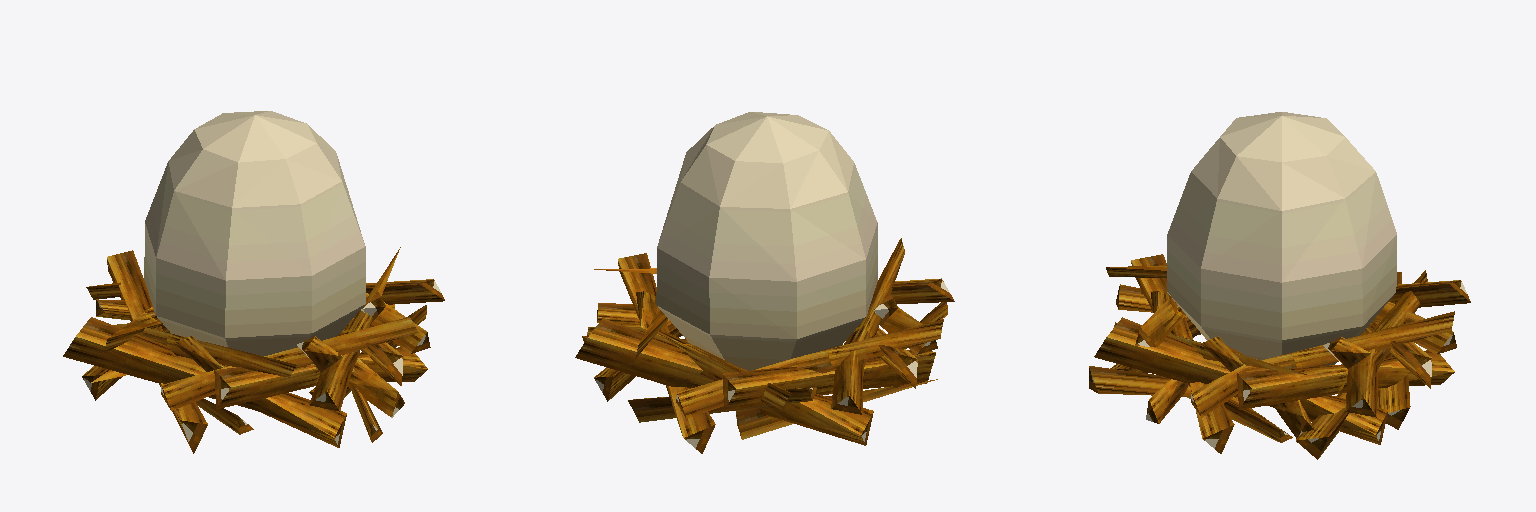
The picture shows the model from 3 angles: view 1: azimuth 30°, elevation 25°; view 2: azimuth 150°, elevation 25°; view 3: azimuth 270°, elevation 25°; orthographic projection.
Visible parts, largest first — view 1: egg_egg_geom-029B91F1, egg_straw_geom-004A2CA9; view 2: egg_egg_geom-029B91F1, egg_straw_geom-004A2CA9; view 3: egg_egg_geom-029B91F1, egg_straw_geom-004A2CA9.
Boxes of the visible parts, box(x1,y1,x2,y2) form: egg_egg_geom-029B91F1: box(144, 111, 365, 355); egg_straw_geom-004A2CA9: box(63, 247, 444, 453); egg_egg_geom-029B91F1: box(656, 112, 877, 370); egg_straw_geom-004A2CA9: box(575, 238, 954, 453); egg_egg_geom-029B91F1: box(1167, 112, 1396, 365); egg_straw_geom-004A2CA9: box(1089, 254, 1470, 459).
Bounding box in the file's own units: 0.7358 × 0.5775 × 0.7145.
2 materials, 1 textured.